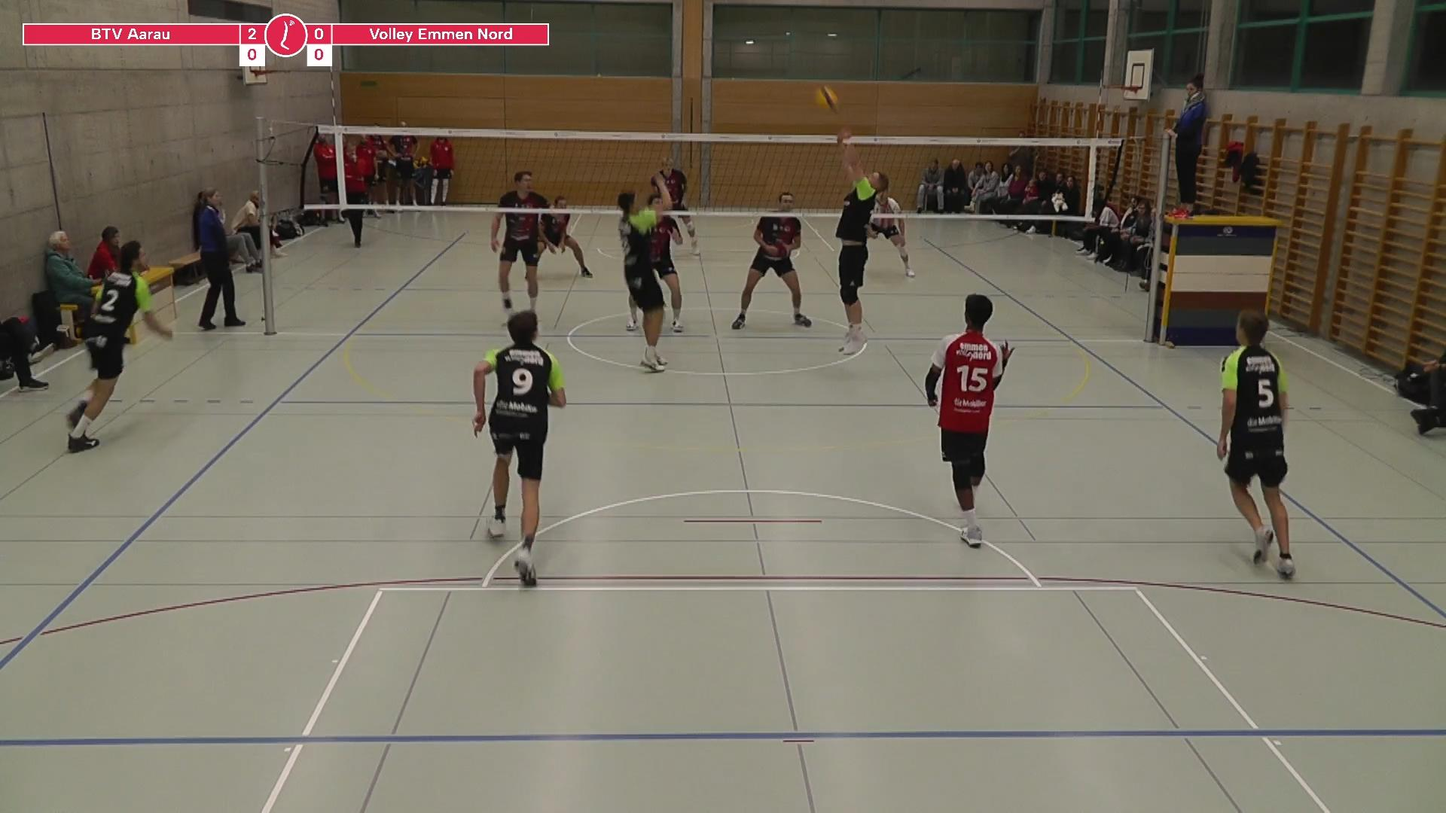Player: (473, 311, 565, 586), (67, 241, 172, 452), (925, 294, 1011, 547), (1217, 311, 1295, 578), (731, 191, 811, 329), (618, 175, 671, 371), (490, 212, 539, 316), (542, 196, 593, 278), (871, 193, 914, 277), (653, 216, 683, 332), (652, 157, 687, 212)
Set: (818, 134, 890, 365)
ball: (812, 82, 839, 111)
